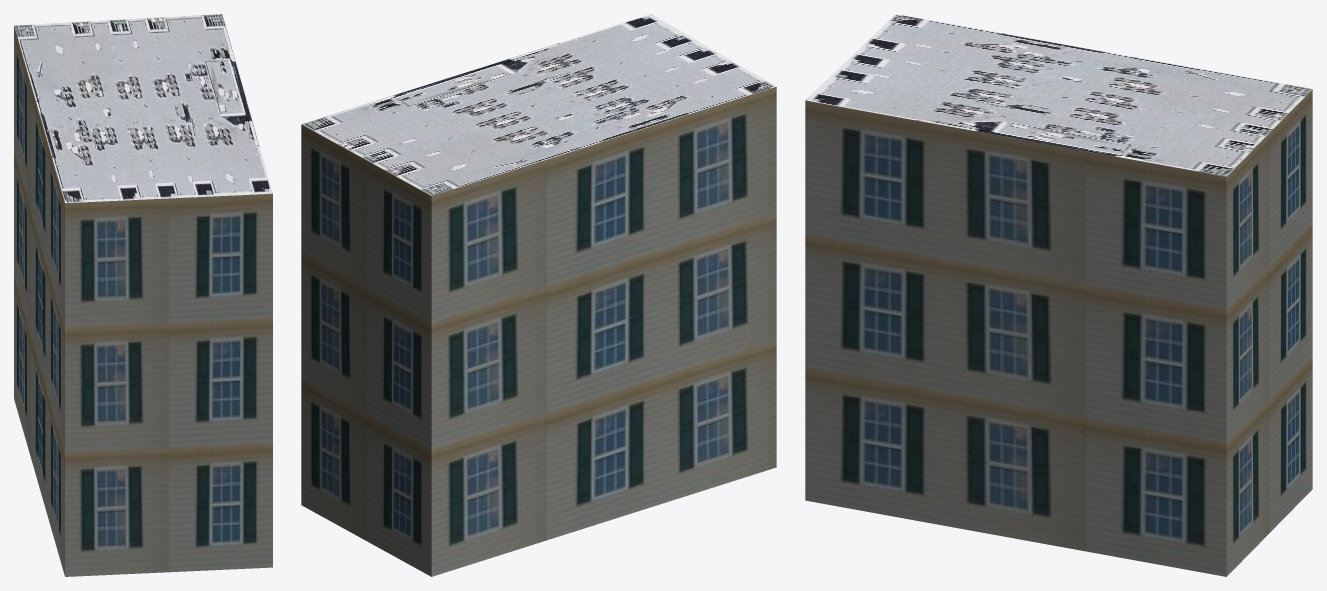
Rendered from ResTex__2567.fbx.
3 views of the same model, side by side, from view 1: azimuth 30°, elevation 25°; view 2: azimuth 150°, elevation 25°; view 3: azimuth 270°, elevation 25° (orthographic). The views are drawn at different scales.
Parts seen in each view (by area): view 1: CityEngineMaterial_7_m, CityEngineMaterial_4_m; view 2: CityEngineMaterial_7_m, CityEngineMaterial_4_m; view 3: CityEngineMaterial_7_m, CityEngineMaterial_4_m.
Part boxes in pixels (x1,y1,x2,y2): CityEngineMaterial_7_m: (14, 26, 272, 576); CityEngineMaterial_4_m: (14, 14, 272, 203); CityEngineMaterial_7_m: (301, 86, 776, 576); CityEngineMaterial_4_m: (302, 14, 775, 195); CityEngineMaterial_7_m: (805, 89, 1312, 576); CityEngineMaterial_4_m: (805, 14, 1312, 176).
Bounding box in the file's own units: 7.86 × 9 × 10.35.
Materials: 2 (2 with a texture image).
